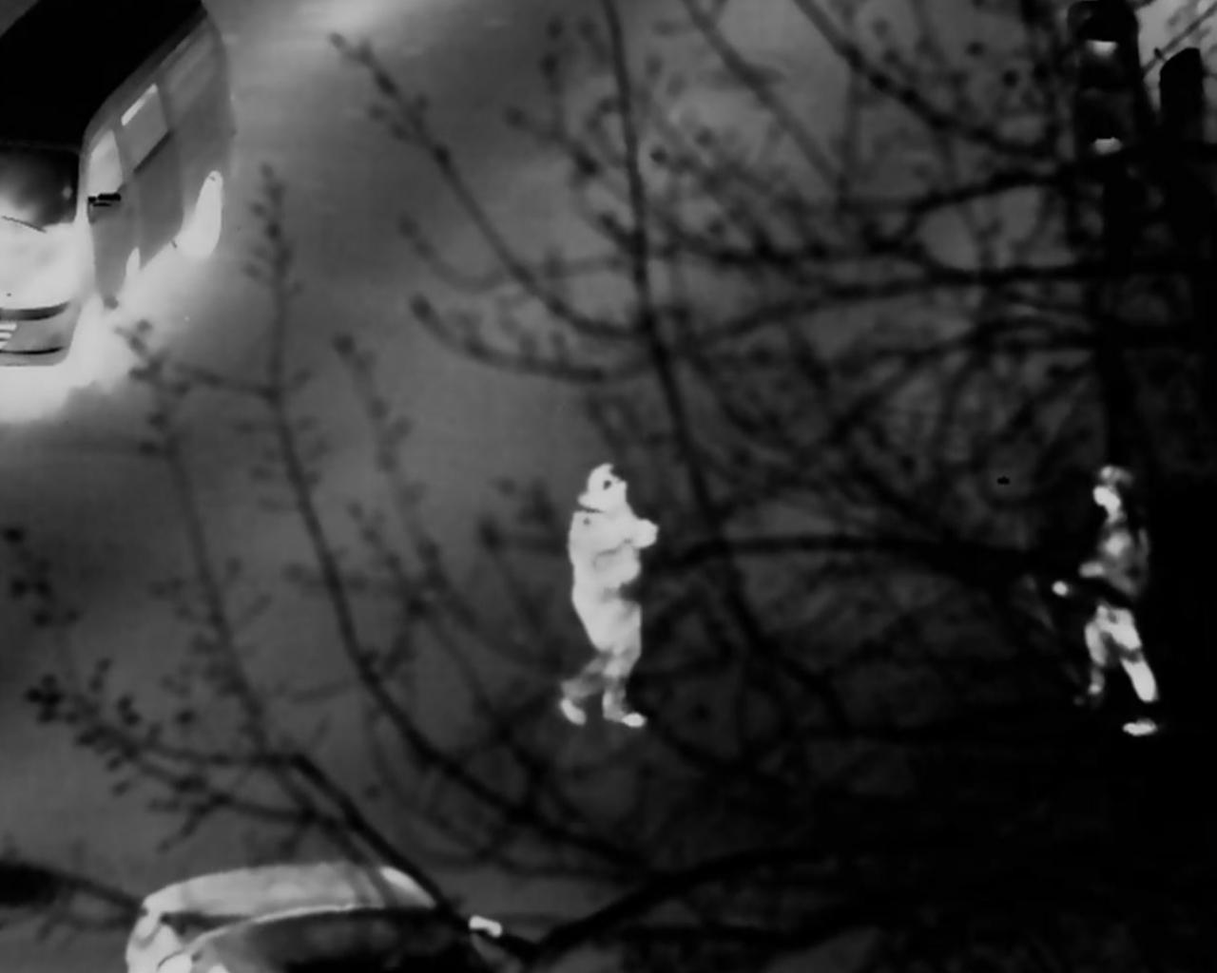person: (571, 461, 659, 734), (1075, 469, 1159, 742)
